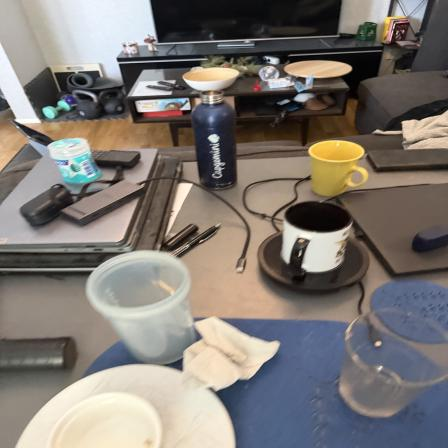blue_bottle: (192, 86, 240, 192)
yellow_cup: (304, 136, 366, 199)
